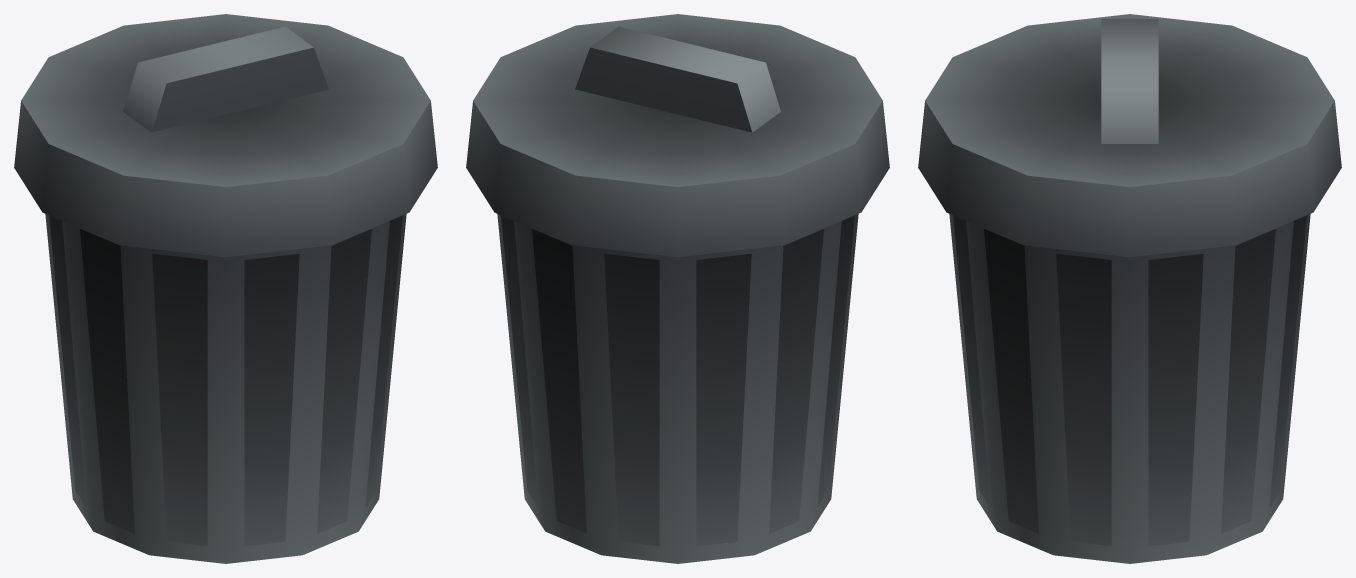
Rendered from Trash_Can_1B.fbx.
The picture shows the model from 3 angles, left to right: view 1: azimuth 30°, elevation 25°; view 2: azimuth 150°, elevation 25°; view 3: azimuth 270°, elevation 25°; orthographic projection.
Visible parts, largest first — view 1: Trash_Can_1B; view 2: Trash_Can_1B; view 3: Trash_Can_1B.
Part boxes in pixels (x1,y1,x2,y2): Trash_Can_1B: (14, 14, 437, 563); Trash_Can_1B: (466, 14, 889, 563); Trash_Can_1B: (918, 14, 1341, 563).
Size of the model in its own units: 128 by 148 by 128.
